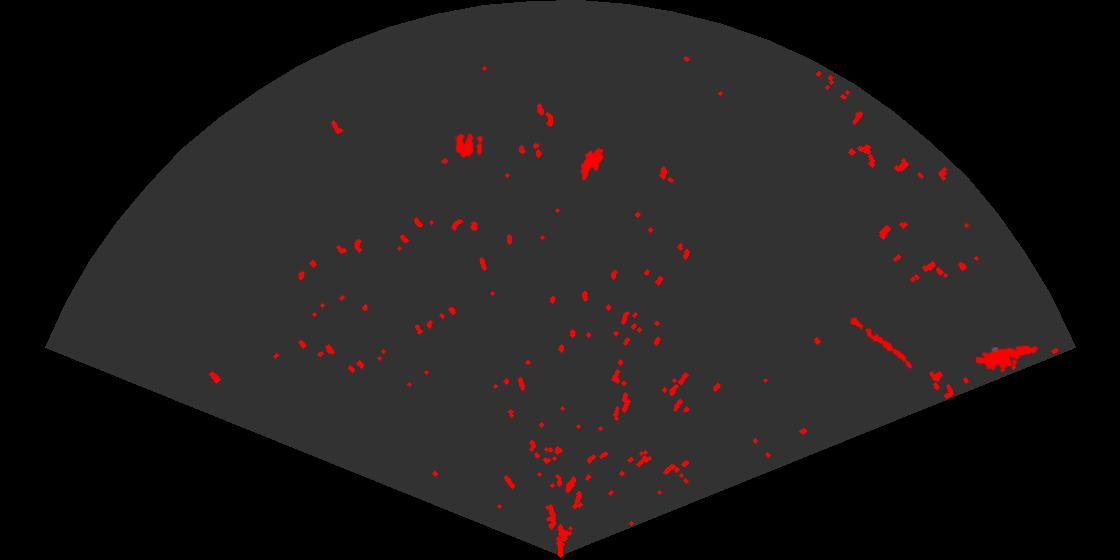AUV: (579, 146, 605, 183)
ball: (454, 131, 485, 160)
chain: (844, 311, 914, 370)
frogman: (976, 344, 1039, 374)
